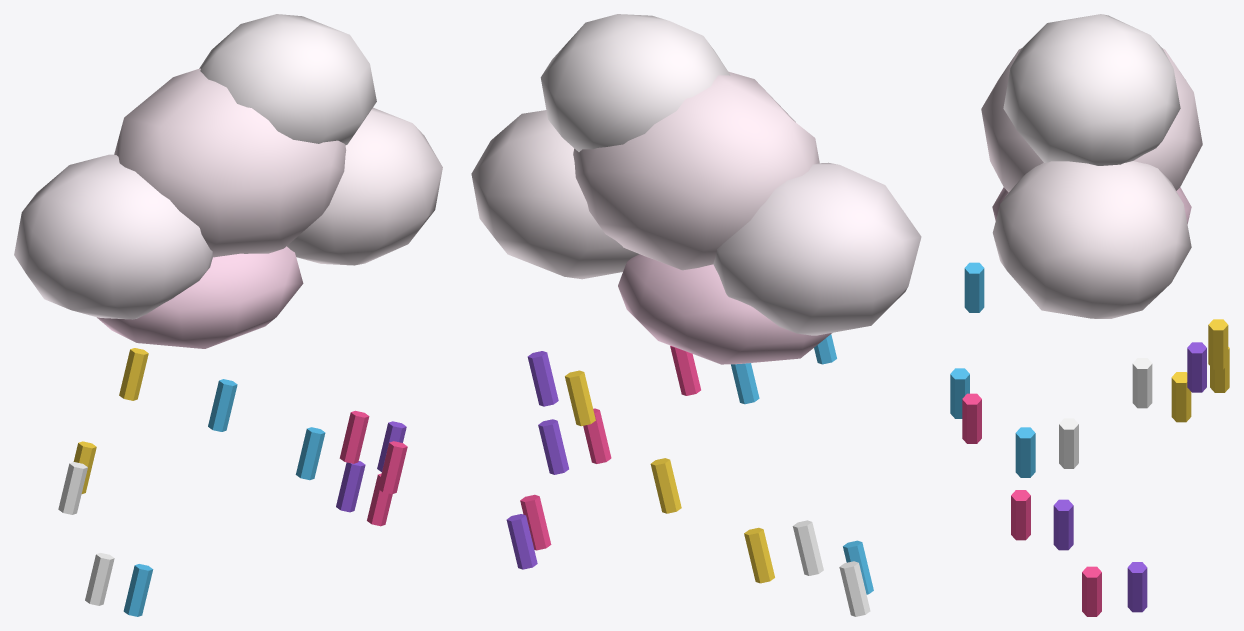
File: sprinkle-storm.glb
3 views of the same model, side by side, from view 1: azimuth 30°, elevation 25°; view 2: azimuth 150°, elevation 25°; view 3: azimuth 270°, elevation 25° (orthographic). The views are drawn at different scales.
Parts seen in each view (by area): view 1: cotton cloud, cotton cloud.001, cotton cloud.004, cotton cloud.002, cotton cloud.003, falling sprinkle.012, falling sprinkle.002, falling sprinkle.005, falling sprinkle.010, falling sprinkle.004, falling sprinkle.007, falling sprinkle.006 (+4 smaller); view 2: cotton cloud, cotton cloud.001, cotton cloud.004, cotton cloud.002, cotton cloud.003, falling sprinkle.008, falling sprinkle.006, falling sprinkle.009, falling sprinkle.011, falling sprinkle.003, falling sprinkle.004, falling sprinkle.001 (+6 smaller); view 3: cotton cloud.002, cotton cloud.004, cotton cloud, falling sprinkle.013, falling sprinkle.011, falling sprinkle.012, falling sprinkle.007, falling sprinkle.008, falling sprinkle.009, falling sprinkle.005, falling sprinkle, falling sprinkle.010 (+6 smaller).
Part boxes in pixels (<box>): cotton cloud: <box>114,68,346,257</box>; cotton cloud.001: <box>14,154,212,319</box>; cotton cloud.004: <box>199,14,376,145</box>; cotton cloud.002: <box>287,107,442,265</box>; cotton cloud.003: <box>97,246,303,348</box>; falling sprinkle.012: <box>123,564,153,616</box>; falling sprinkle.002: <box>295,427,325,480</box>; falling sprinkle.005: <box>378,441,407,494</box>; falling sprinkle.010: <box>339,410,369,463</box>; falling sprinkle.004: <box>85,553,114,605</box>; falling sprinkle.007: <box>208,379,237,431</box>; falling sprinkle.006: <box>119,348,148,400</box>; cotton cloud: <box>573,71,819,270</box>; cotton cloud.001: <box>713,162,921,335</box>; cotton cloud.004: <box>540,14,730,151</box>; cotton cloud.002: <box>471,110,639,279</box>; cotton cloud.003: <box>618,254,831,364</box>; falling sprinkle.008: <box>506,514,537,569</box>; falling sprinkle.006: <box>650,458,681,513</box>; falling sprinkle.009: <box>792,520,823,575</box>; falling sprinkle.011: <box>565,370,595,426</box>; falling sprinkle.003: <box>527,351,558,406</box>; falling sprinkle.004: <box>839,561,870,616</box>; falling sprinkle.001: <box>744,527,774,583</box>; cotton cloud.002: <box>992,161,1191,318</box>; cotton cloud.004: <box>1003,14,1180,165</box>; cotton cloud: <box>981,48,1202,192</box>; falling sprinkle.013: <box>1053,499,1073,550</box>; falling sprinkle.011: <box>1208,319,1228,369</box>; falling sprinkle.012: <box>1015,427,1035,477</box>; falling sprinkle.007: <box>964,262,984,312</box>; falling sprinkle.008: <box>1127,562,1147,612</box>; falling sprinkle.009: <box>1132,358,1152,408</box>; falling sprinkle.005: <box>1011,490,1030,540</box>; falling sprinkle: <box>1082,566,1101,616</box>; falling sprinkle.010: <box>962,393,981,443</box>.
Size of the model in its own units: 0.4382 by 0.542 by 0.2534.
